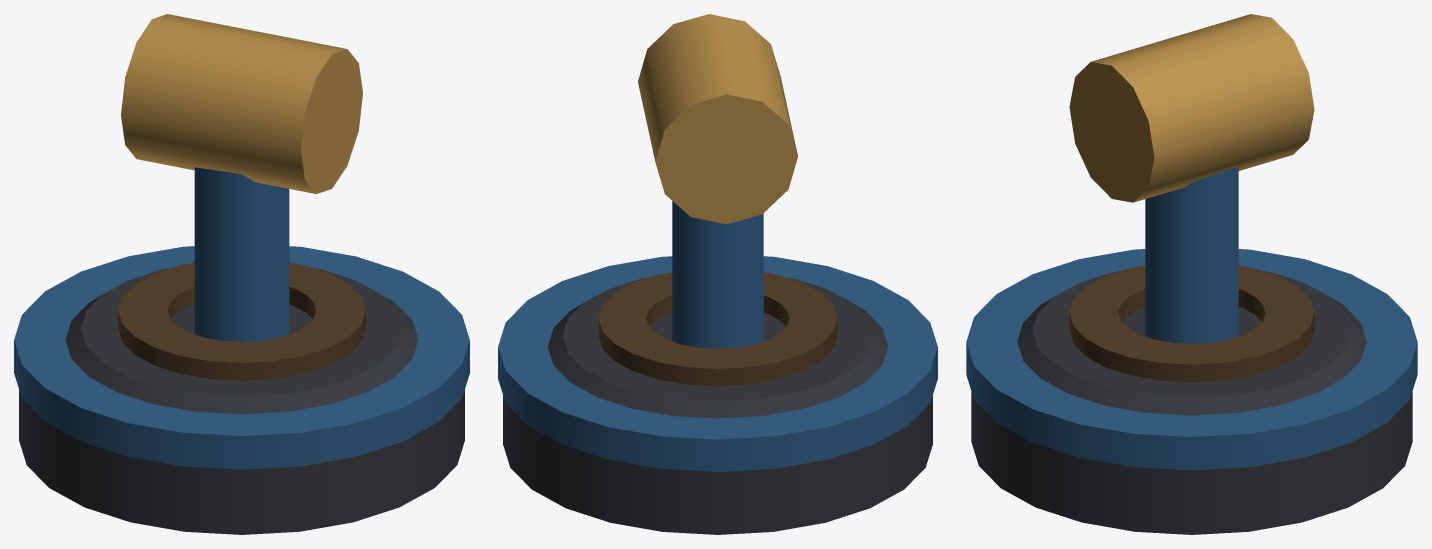
The model's file is rm2_leg_rl_foot.obj.
3 views of the same model, side by side, from view 1: azimuth 30°, elevation 25°; view 2: azimuth 150°, elevation 25°; view 3: azimuth 270°, elevation 25° (orthographic). The views are drawn at different scales.
Parts seen in each view (by area): view 1: rm2_leg_rl_foot; view 2: rm2_leg_rl_foot; view 3: rm2_leg_rl_foot.
Boxes of the visible parts, x1,y1,x2,y2 form: rm2_leg_rl_foot: (14, 14, 469, 534); rm2_leg_rl_foot: (498, 14, 937, 534); rm2_leg_rl_foot: (966, 14, 1417, 534).
Size of the model in its own units: 0.184 by 0.18 by 0.184.
